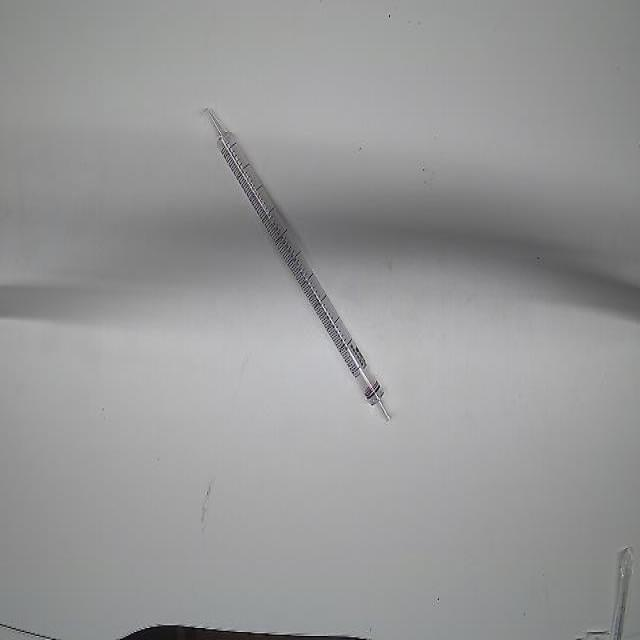Serelogical Pipet 50 mL: (200, 104, 407, 433)
